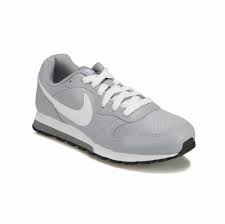nike: (38, 81, 94, 128)
